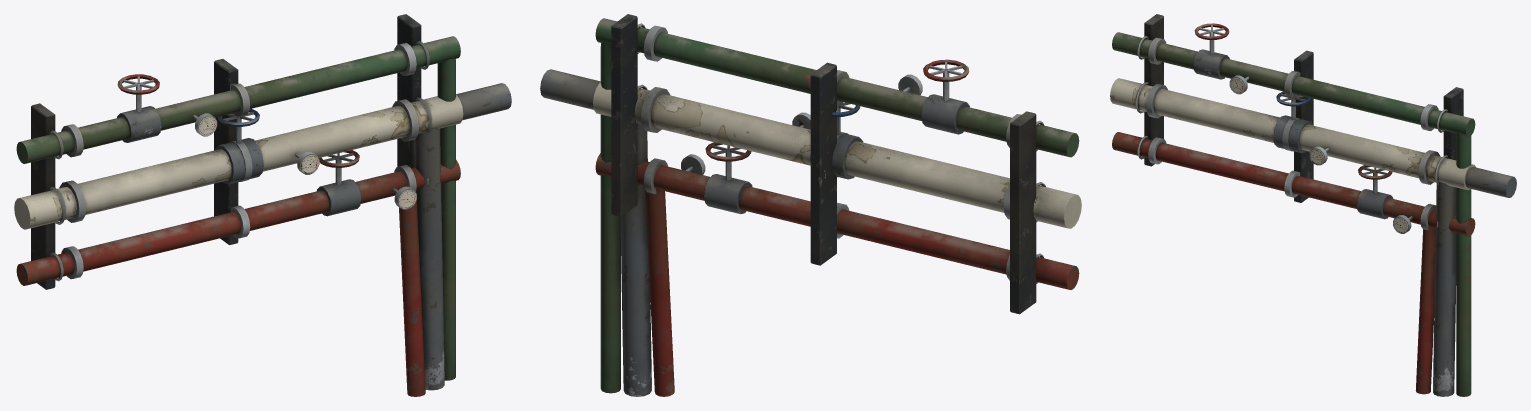
The model's file is PipeManifold.fbx.
3 renders of one model, left to right at view 1: azimuth 30°, elevation 25°; view 2: azimuth 150°, elevation 25°; view 3: azimuth 330°, elevation 25°, orthographic. The views are drawn at different scales.
Parts seen in each view (by area): view 1: PipeManifold; view 2: PipeManifold; view 3: PipeManifold.
Part boxes in pixels (x1=…): PipeManifold: x1=14, y1=14, x2=511, y2=396; PipeManifold: x1=540, y1=14, x2=1081, y2=396; PipeManifold: x1=1110, y1=14, x2=1516, y2=396.
Bounding box in the file's own units: 8.7 × 6.38 × 1.3.
Materials: 1 (1 with a texture image).
